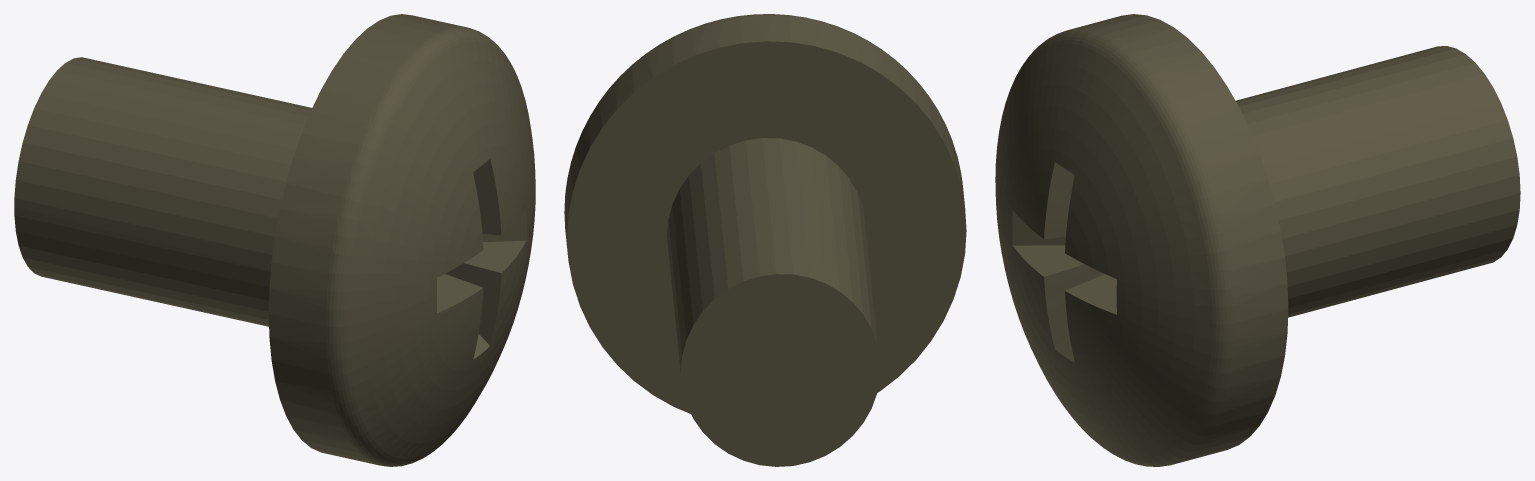
The model's file is Dinh_Ngan.glb.
3 views of the same model, side by side, from view 1: azimuth 30°, elevation 25°; view 2: azimuth 150°, elevation 25°; view 3: azimuth 270°, elevation 25° (orthographic). The views are drawn at different scales.
Visible parts, largest first — view 1: defaultobject; view 2: defaultobject; view 3: defaultobject.
Part boxes in pixels (<box>): defaultobject: <box>14,14,535,466</box>; defaultobject: <box>564,14,966,466</box>; defaultobject: <box>995,14,1520,466</box>.
Bounding box in the file's own units: 20.52 × 18.94 × 21.94.
